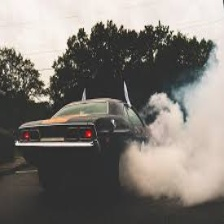smoke: (121, 43, 222, 206)
